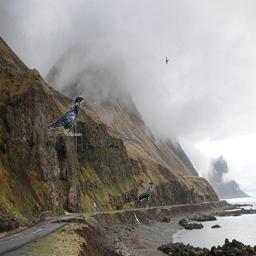Crow: (47, 96, 84, 136)
Woodpecker: (135, 181, 155, 203)
